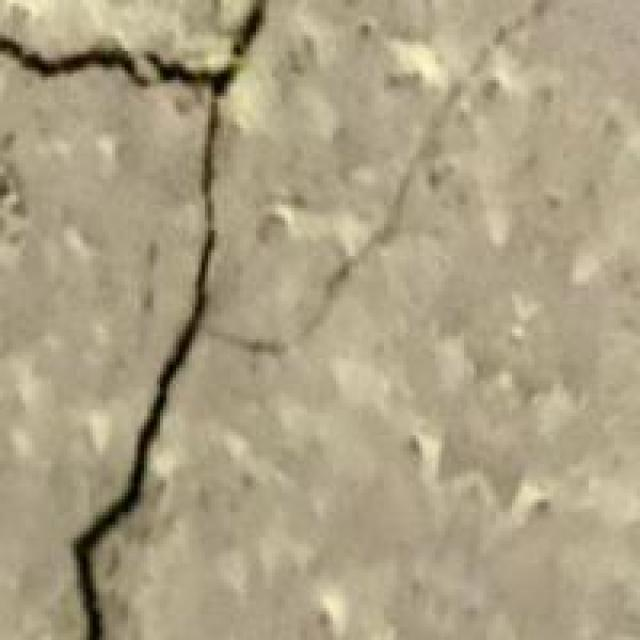crack: (7, 0, 276, 637)
